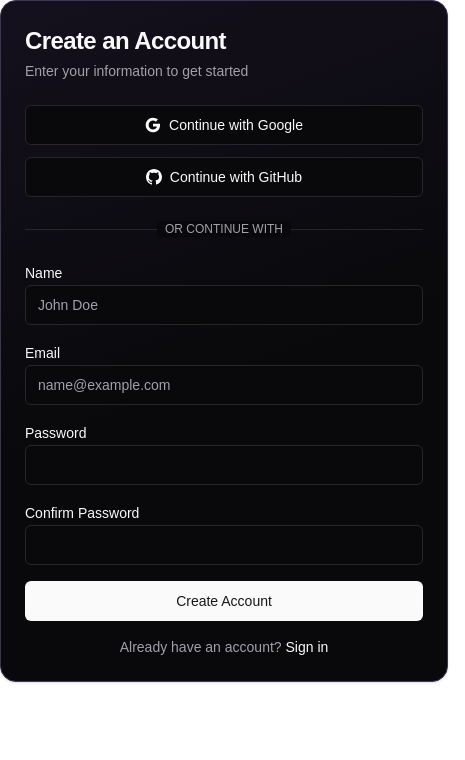
Test: SignupForm › shows validation error for password mismatch
This screenshot has width=465, height=760.
Type "Test User" into the field labelled "Name" at (224, 305), box [25,285,423,325]
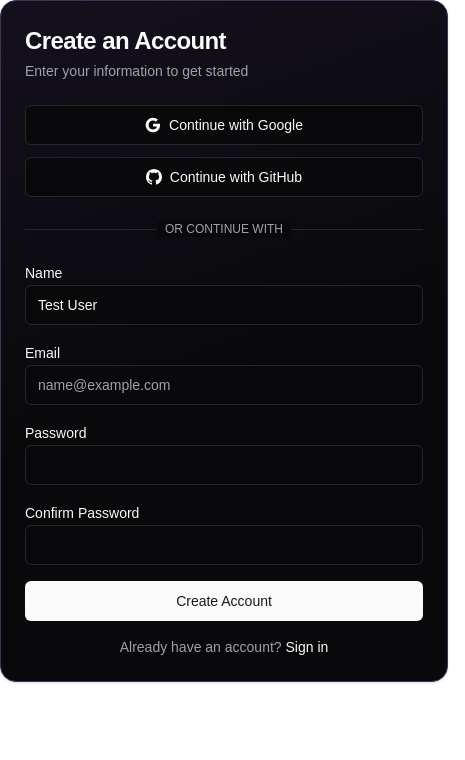
Type "test@test.com" into the field labelled "Email" at (224, 385), box [25,365,423,405]
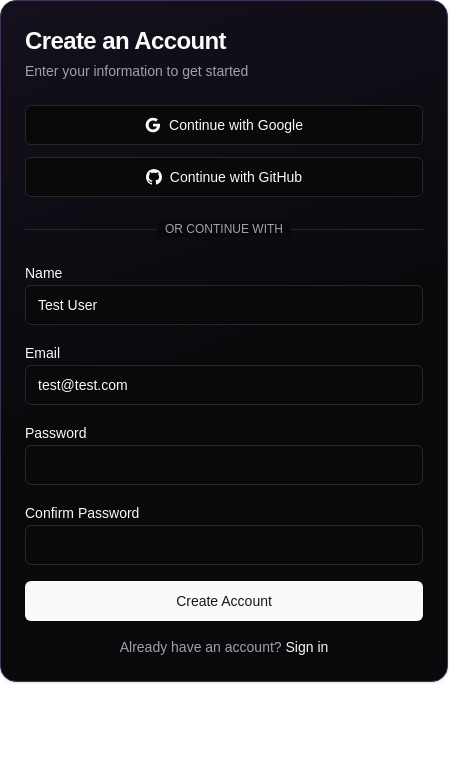
Type "password123" into the password field labelled "Password" at (224, 465), box [25,445,423,485]
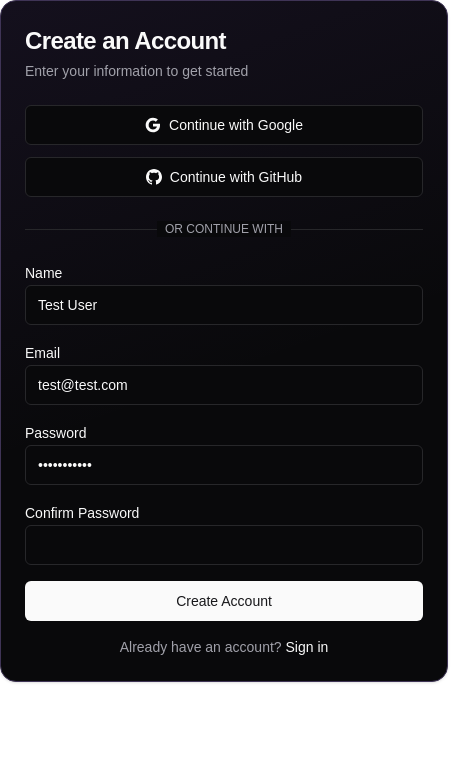
Type "different" into the password field labelled "Confirm Password" at (224, 545), box [25,525,423,565]
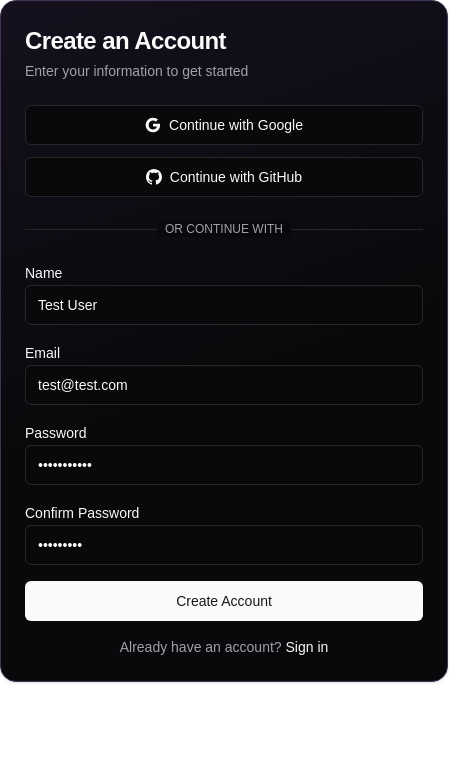
Click the button "Create Account" at (224, 601), box [25,581,423,621]
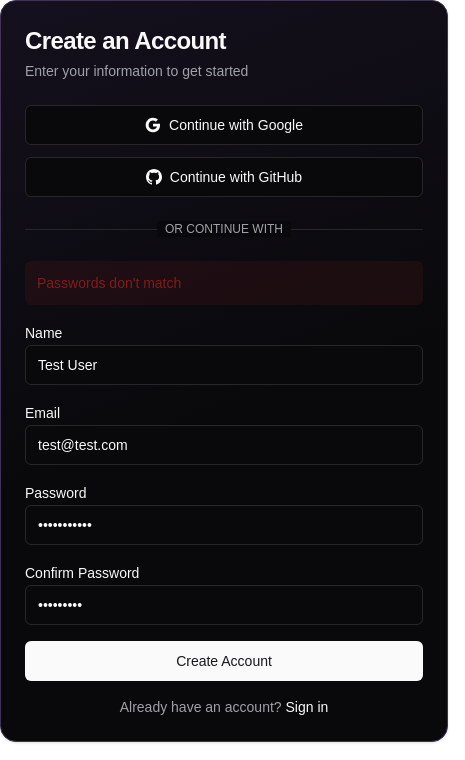
Expected: the text "Passwords don't match" is shown, [25,261,423,305]
